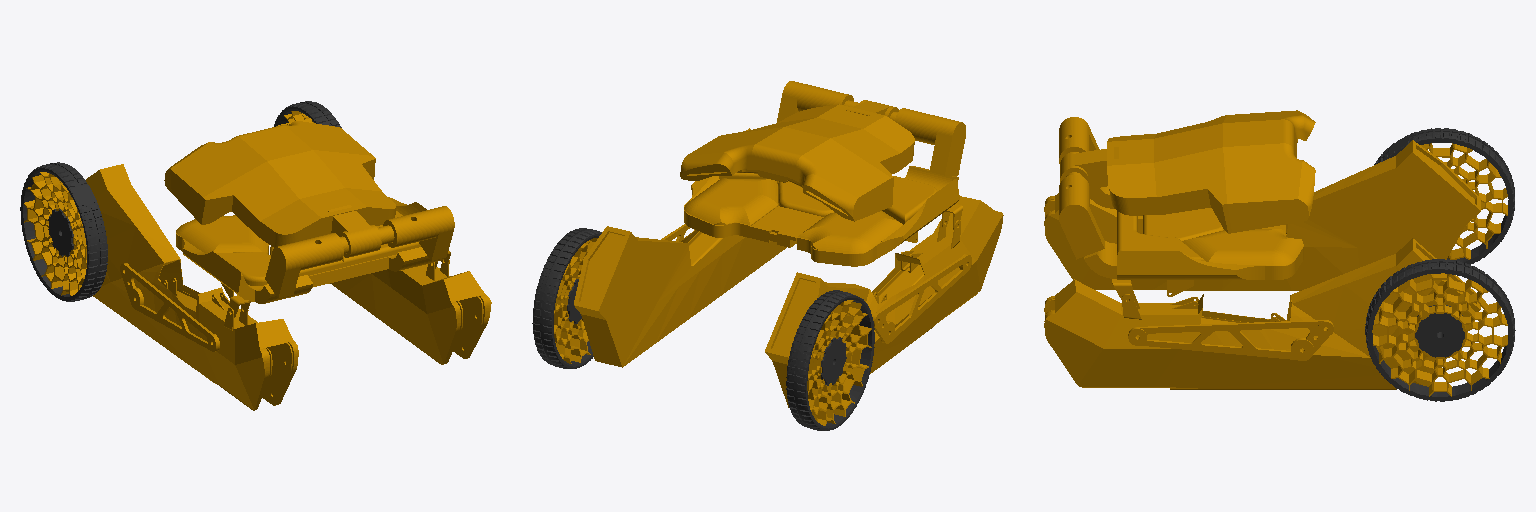
robot.urdf — nishcorp_wheelchair:
<?xml version="1.0" ?>
<!-- Generated using onshape-to-robot -->
<!-- Onshape document_id: 60254bbc48375c7f6772d56f -->
<robot name="nishcorp_wheelchair">
  <!-- Link fiberglass_seat_v3_v9 -->
  <link name="fiberglass_seat_v3_v9">
    <inertial>
      <origin xyz="0 0 0" rpy="0 0 0"/>
      <mass value="1e-09"/>
      <inertia ixx="1e-09" ixy="0" ixz="0" iyy="1e-09" iyz="0" izz="1e-09"/>
    </inertial>
    <!-- Part fiberglass_seat_v3_v9 -->
    <visual>
      <origin xyz="-0.00136916 -0.134916 0.0439822" rpy="1.23682e-16 1.54053e-17 1.00166e-15"/>
      <geometry>
        <mesh filename="package://wheelchair/wheelchair/assets/fiberglass_seat_v3_v9.stl"/>
      </geometry>
      <material name="fiberglass_seat_v3_v9_material">
        <color rgba="0.784314 0.556863 0.027451 1.0"/>
      </material>
    </visual>
    <collision>
      <origin xyz="-0.00136916 -0.134916 0.0439822" rpy="1.23682e-16 1.54053e-17 1.00166e-15"/>
      <geometry>
        <mesh filename="package://wheelchair/wheelchair/assets/fiberglass_seat_v3_v9.stl"/>
      </geometry>
    </collision>
    <!-- Part fiberglass_seat_v3_v9_2 -->
    <visual>
      <origin xyz="8.13252e-17 -0.133159 0.03" rpy="1.17961e-16 1.54053e-17 1.49241e-17"/>
      <geometry>
        <mesh filename="package://wheelchair/wheelchair/assets/fiberglass_seat_v3_v9__2.stl"/>
      </geometry>
      <material name="fiberglass_seat_v3_v9_2_material">
        <color rgba="0.784314 0.556863 0.027451 1.0"/>
      </material>
    </visual>
    <collision>
      <origin xyz="8.13252e-17 -0.133159 0.03" rpy="1.17961e-16 1.54053e-17 1.49241e-17"/>
      <geometry>
        <mesh filename="package://wheelchair/wheelchair/assets/fiberglass_seat_v3_v9__2.stl"/>
      </geometry>
    </collision>
  </link>
  <!-- Link shaft_v2 -->
  <link name="shaft_v2">
    <inertial>
      <origin xyz="0 0 0" rpy="0 0 0"/>
      <mass value="1e-09"/>
      <inertia ixx="1e-09" ixy="0" ixz="0" iyy="1e-09" iyz="0" izz="1e-09"/>
    </inertial>
    <!-- Part shaft_v2 -->
    <visual>
      <origin xyz="0.0244498 0.0708618 -0.3" rpy="1.5708 -1.79463e-31 -3.9443e-31"/>
      <geometry>
        <mesh filename="package://wheelchair/wheelchair/assets/shaft_v2.stl"/>
      </geometry>
      <material name="shaft_v2_material">
        <color rgba="0.784314 0.556863 0.027451 1.0"/>
      </material>
    </visual>
    <collision>
      <origin xyz="0.0244498 0.0708618 -0.3" rpy="1.5708 -1.79463e-31 -3.9443e-31"/>
      <geometry>
        <mesh filename="package://wheelchair/wheelchair/assets/shaft_v2.stl"/>
      </geometry>
    </collision>
  </link>
  <!-- Joint from fiberglass_seat_v3_v9 to shaft_v2 -->
  <joint name="j1" type="revolute">
    <origin xyz="-0.161102 -0.225441 0.147797" rpy="-1.5708 2.66454e-15 1.5708"/>
    <parent link="fiberglass_seat_v3_v9"/>
    <child link="shaft_v2"/>
    <axis xyz="0 0 1"/>
    <limit effort="10" velocity="10" lower="-3.14159" upper="0"/>
  </joint>
  <!-- Link component24_1 -->
  <link name="component24_1">
    <inertial>
      <origin xyz="0 0 0" rpy="0 0 0"/>
      <mass value="1e-09"/>
      <inertia ixx="1e-09" ixy="0" ixz="0" iyy="1e-09" iyz="0" izz="1e-09"/>
    </inertial>
    <!-- Part component24_1 -->
    <visual>
      <origin xyz="-0.0374601 0.183359 0.0656458" rpy="1.5708 1.5708 0"/>
      <geometry>
        <mesh filename="package://wheelchair/wheelchair/assets/component24_1.stl"/>
      </geometry>
      <material name="component24_1_material">
        <color rgba="0.784314 0.556863 0.027451 1.0"/>
      </material>
    </visual>
    <collision>
      <origin xyz="-0.0374601 0.183359 0.0656458" rpy="1.5708 1.5708 0"/>
      <geometry>
        <mesh filename="package://wheelchair/wheelchair/assets/component24_1.stl"/>
      </geometry>
    </collision>
  </link>
  <!-- Link untitled_v1 -->
  <link name="untitled_v1">
    <inertial>
      <origin xyz="0 0 0" rpy="0 0 0"/>
      <mass value="1e-09"/>
      <inertia ixx="1e-09" ixy="0" ixz="0" iyy="1e-09" iyz="0" izz="1e-09"/>
    </inertial>
    <!-- Part untitled_v1 -->
    <visual>
      <origin xyz="-5.55112e-17 -2.77556e-17 -0.005" rpy="1.5708 1.5708 0"/>
      <geometry>
        <mesh filename="package://wheelchair/wheelchair/assets/untitled_v1.stl"/>
      </geometry>
      <material name="untitled_v1_material">
        <color rgba="0.784314 0.556863 0.027451 1.0"/>
      </material>
    </visual>
    <collision>
      <origin xyz="-5.55112e-17 -2.77556e-17 -0.005" rpy="1.5708 1.5708 0"/>
      <geometry>
        <mesh filename="package://wheelchair/wheelchair/assets/untitled_v1.stl"/>
      </geometry>
    </collision>
  </link>
  <!-- Link zzzzzzz_v1 -->
  <link name="zzzzzzz_v1">
    <inertial>
      <origin xyz="0 0 0" rpy="0 0 0"/>
      <mass value="1e-09"/>
      <inertia ixx="1e-09" ixy="0" ixz="0" iyy="1e-09" iyz="0" izz="1e-09"/>
    </inertial>
    <!-- Part zzzzzzz_v1 -->
    <visual>
      <origin xyz="-0.197309 0.210554 0.419184" rpy="-1.5708 6.02782e-31 3.14159"/>
      <geometry>
        <mesh filename="package://wheelchair/wheelchair/assets/zzzzzzz_v1.stl"/>
      </geometry>
      <material name="zzzzzzz_v1_material">
        <color rgba="0.34902 0.34902 0.34902 1.0"/>
      </material>
    </visual>
    <collision>
      <origin xyz="-0.197309 0.210554 0.419184" rpy="-1.5708 6.02782e-31 3.14159"/>
      <geometry>
        <mesh filename="package://wheelchair/wheelchair/assets/zzzzzzz_v1.stl"/>
      </geometry>
    </collision>
  </link>
  <!-- Joint from untitled_v1 to zzzzzzz_v1 -->
  <joint name="j7" type="revolute">
    <origin xyz="-0.268116 0.224976 -0.01" rpy="-5.09833e-32 4.32183e-32 -1.01465e-17"/>
    <parent link="untitled_v1"/>
    <child link="zzzzzzz_v1"/>
    <axis xyz="0 0 1"/>
    <limit effort="10" velocity="10" lower="-3.141592653589793" upper="3.141592653589793"/>
  </joint>
  <!-- Joint from component24_1 to untitled_v1 -->
  <joint name="j4" type="revolute">
    <origin xyz="0.370405 0.106628 -0.0173542" rpy="1.35007e-15 5.19241e-16 0.785398"/>
    <parent link="component24_1"/>
    <child link="untitled_v1"/>
    <axis xyz="0 0 1"/>
    <limit effort="10" velocity="10" lower="-1.5708" upper="0"/>
  </joint>
  <!-- Link component1 -->
  <link name="component1">
    <inertial>
      <origin xyz="0 0 0" rpy="0 0 0"/>
      <mass value="1e-09"/>
      <inertia ixx="1e-09" ixy="0" ixz="0" iyy="1e-09" iyz="0" izz="1e-09"/>
    </inertial>
    <!-- Part component1 -->
    <visual>
      <origin xyz="2.77556e-17 -6.66134e-16 -0.01" rpy="-2.82743 -1.5708 0"/>
      <geometry>
        <mesh filename="package://wheelchair/wheelchair/assets/component1.stl"/>
      </geometry>
      <material name="component1_material">
        <color rgba="0.784314 0.556863 0.027451 1.0"/>
      </material>
    </visual>
    <collision>
      <origin xyz="2.77556e-17 -6.66134e-16 -0.01" rpy="-2.82743 -1.5708 0"/>
      <geometry>
        <mesh filename="package://wheelchair/wheelchair/assets/component1.stl"/>
      </geometry>
    </collision>
    <!-- Part tyre_v7 -->
    <visual>
      <origin xyz="0 0 -0.01" rpy="-1.5708 -1.5708 0"/>
      <geometry>
        <mesh filename="package://wheelchair/wheelchair/assets/tyre_v7.stl"/>
      </geometry>
      <material name="tyre_v7_material">
        <color rgba="0.247059 0.247059 0.247059 1.0"/>
      </material>
    </visual>
    <collision>
      <origin xyz="0 0 -0.01" rpy="-1.5708 -1.5708 0"/>
      <geometry>
        <mesh filename="package://wheelchair/wheelchair/assets/tyre_v7.stl"/>
      </geometry>
    </collision>
    <!-- Part component1_2 -->
    <visual>
      <origin xyz="-2.77556e-17 -4.44089e-16 -0.01" rpy="-2.82743 -1.5708 0"/>
      <geometry>
        <mesh filename="package://wheelchair/wheelchair/assets/component1__2.stl"/>
      </geometry>
      <material name="component1_2_material">
        <color rgba="0.247059 0.247059 0.247059 1.0"/>
      </material>
    </visual>
    <collision>
      <origin xyz="-2.77556e-17 -4.44089e-16 -0.01" rpy="-2.82743 -1.5708 0"/>
      <geometry>
        <mesh filename="package://wheelchair/wheelchair/assets/component1__2.stl"/>
      </geometry>
    </collision>
  </link>
  <!-- Joint from component24_1 to component1 -->
  <joint name="j9" type="revolute">
    <origin xyz="0.66254 0.053359 -0.0303542" rpy="6.18997e-17 -8.0744e-20 -1.5708"/>
    <parent link="component24_1"/>
    <child link="component1"/>
    <axis xyz="0 0 1"/>
    <limit effort="10" velocity="10" lower="-3.141592653589793" upper="3.141592653589793"/>
  </joint>
  <!-- Joint from fiberglass_seat_v3_v9 to component24_1 -->
  <joint name="j2" type="revolute">
    <origin xyz="0.278959 -0.113245 -0.0128467" rpy="-1.5708 -5.7471e-16 1.5708"/>
    <parent link="fiberglass_seat_v3_v9"/>
    <child link="component24_1"/>
    <axis xyz="0 0 1"/>
    <limit effort="10" velocity="10" lower="0" upper="1.5708"/>
  </joint>
  <!-- Link component24_1_2 -->
  <link name="component24_1_2">
    <inertial>
      <origin xyz="0 0 0" rpy="0 0 0"/>
      <mass value="1e-09"/>
      <inertia ixx="1e-09" ixy="0" ixz="0" iyy="1e-09" iyz="0" izz="1e-09"/>
    </inertial>
    <!-- Part component24_1_2 -->
    <visual>
      <origin xyz="-0.0374601 0.183359 0.431354" rpy="1.5708 1.5708 0"/>
      <geometry>
        <mesh filename="package://wheelchair/wheelchair/assets/component24_1__2.stl"/>
      </geometry>
      <material name="component24_1_2_material">
        <color rgba="0.784314 0.556863 0.027451 1.0"/>
      </material>
    </visual>
    <collision>
      <origin xyz="-0.0374601 0.183359 0.431354" rpy="1.5708 1.5708 0"/>
      <geometry>
        <mesh filename="package://wheelchair/wheelchair/assets/component24_1__2.stl"/>
      </geometry>
    </collision>
  </link>
  <!-- Link untitled_v1_2 -->
  <link name="untitled_v1_2">
    <inertial>
      <origin xyz="0 0 0" rpy="0 0 0"/>
      <mass value="1e-09"/>
      <inertia ixx="1e-09" ixy="0" ixz="0" iyy="1e-09" iyz="0" izz="1e-09"/>
    </inertial>
    <!-- Part untitled_v1_2 -->
    <visual>
      <origin xyz="5.55112e-17 -1.38778e-17 -0.005" rpy="-1.5708 -1.5708 0"/>
      <geometry>
        <mesh filename="package://wheelchair/wheelchair/assets/untitled_v1.stl"/>
      </geometry>
      <material name="untitled_v1_2_material">
        <color rgba="0.784314 0.556863 0.027451 1.0"/>
      </material>
    </visual>
    <collision>
      <origin xyz="5.55112e-17 -1.38778e-17 -0.005" rpy="-1.5708 -1.5708 0"/>
      <geometry>
        <mesh filename="package://wheelchair/wheelchair/assets/untitled_v1.stl"/>
      </geometry>
    </collision>
  </link>
  <!-- Link zzzzzzz_v1_2 -->
  <link name="zzzzzzz_v1_2">
    <inertial>
      <origin xyz="0 0 0" rpy="0 0 0"/>
      <mass value="1e-09"/>
      <inertia ixx="1e-09" ixy="0" ixz="0" iyy="1e-09" iyz="0" izz="1e-09"/>
    </inertial>
    <!-- Part zzzzzzz_v1_2 -->
    <visual>
      <origin xyz="0.197309 -0.210554 0.429184" rpy="-1.5708 5.24974e-32 1.01465e-17"/>
      <geometry>
        <mesh filename="package://wheelchair/wheelchair/assets/zzzzzzz_v1.stl"/>
      </geometry>
      <material name="zzzzzzz_v1_2_material">
        <color rgba="0.34902 0.34902 0.34902 1.0"/>
      </material>
    </visual>
    <collision>
      <origin xyz="0.197309 -0.210554 0.429184" rpy="-1.5708 5.24974e-32 1.01465e-17"/>
      <geometry>
        <mesh filename="package://wheelchair/wheelchair/assets/zzzzzzz_v1.stl"/>
      </geometry>
    </collision>
  </link>
  <!-- Joint from untitled_v1_2 to zzzzzzz_v1_2 -->
  <joint name="j6" type="revolute">
    <origin xyz="-0.268116 -0.224976 -0.02" rpy="7.92467e-30 -1.20439e-30 -3.14159"/>
    <parent link="untitled_v1_2"/>
    <child link="zzzzzzz_v1_2"/>
    <axis xyz="0 0 1"/>
    <limit effort="10" velocity="10" lower="-3.141592653589793" upper="3.141592653589793"/>
  </joint>
  <!-- Joint from component24_1_2 to untitled_v1_2 -->
  <joint name="j5" type="revolute">
    <origin xyz="0.370405 0.106628 0.0263542" rpy="3.14159 1.36174e-16 0.785398"/>
    <parent link="component24_1_2"/>
    <child link="untitled_v1_2"/>
    <axis xyz="0 0 1"/>
    <limit effort="10" velocity="10" lower="0" upper="1.5708"/>
  </joint>
  <!-- Link component1_2 -->
  <link name="component1_2">
    <inertial>
      <origin xyz="0 0 0" rpy="0 0 0"/>
      <mass value="1e-09"/>
      <inertia ixx="1e-09" ixy="0" ixz="0" iyy="1e-09" iyz="0" izz="1e-09"/>
    </inertial>
    <!-- Part component1_3 -->
    <visual>
      <origin xyz="5.55112e-17 -5.55112e-17 0.025" rpy="-2.82743 -1.5708 0"/>
      <geometry>
        <mesh filename="package://wheelchair/wheelchair/assets/component1__2.stl"/>
      </geometry>
      <material name="component1_3_material">
        <color rgba="0.247059 0.247059 0.247059 1.0"/>
      </material>
    </visual>
    <collision>
      <origin xyz="5.55112e-17 -5.55112e-17 0.025" rpy="-2.82743 -1.5708 0"/>
      <geometry>
        <mesh filename="package://wheelchair/wheelchair/assets/component1__2.stl"/>
      </geometry>
    </collision>
    <!-- Part component1_4 -->
    <visual>
      <origin xyz="1.66533e-16 -1.11022e-16 0.025" rpy="-2.82743 -1.5708 0"/>
      <geometry>
        <mesh filename="package://wheelchair/wheelchair/assets/component1.stl"/>
      </geometry>
      <material name="component1_4_material">
        <color rgba="0.784314 0.556863 0.027451 1.0"/>
      </material>
    </visual>
    <collision>
      <origin xyz="1.66533e-16 -1.11022e-16 0.025" rpy="-2.82743 -1.5708 0"/>
      <geometry>
        <mesh filename="package://wheelchair/wheelchair/assets/component1.stl"/>
      </geometry>
    </collision>
    <!-- Part tyre_v7_2 -->
    <visual>
      <origin xyz="5.55112e-17 -5.55112e-17 0.025" rpy="-1.5708 -1.5708 0"/>
      <geometry>
        <mesh filename="package://wheelchair/wheelchair/assets/tyre_v7.stl"/>
      </geometry>
      <material name="tyre_v7_2_material">
        <color rgba="0.247059 0.247059 0.247059 1.0"/>
      </material>
    </visual>
    <collision>
      <origin xyz="5.55112e-17 -5.55112e-17 0.025" rpy="-1.5708 -1.5708 0"/>
      <geometry>
        <mesh filename="package://wheelchair/wheelchair/assets/tyre_v7.stl"/>
      </geometry>
    </collision>
  </link>
  <!-- Joint from component24_1_2 to component1_2 -->
  <joint name="j8" type="revolute">
    <origin xyz="0.66254 0.053359 0.0273542" rpy="-5.65603e-18 9.09612e-17 0.652399"/>
    <parent link="component24_1_2"/>
    <child link="component1_2"/>
    <axis xyz="0 0 1"/>
    <limit effort="10" velocity="10" lower="-3.141592653589793" upper="3.141592653589793"/>
  </joint>
  <!-- Joint from fiberglass_seat_v3_v9 to component24_1_2 -->
  <joint name="j3" type="revolute">
    <origin xyz="-0.284197 -0.113245 -0.0128467" rpy="-1.5708 -1.11022e-16 1.5708"/>
    <parent link="fiberglass_seat_v3_v9"/>
    <child link="component24_1_2"/>
    <axis xyz="0 0 1"/>
    <limit effort="10" velocity="10" lower="0" upper="1.5708"/>
  </joint>
</robot>

--- What the picture shows (computed from the rendered views, not written in the file) ---
Views: 3 orthographic renders of the robot side by side, from view 1: azimuth 30°, elevation 25°; view 2: azimuth 150°, elevation 25°; view 3: azimuth 270°, elevation 25°.
Model nishcorp_wheelchair with 10 links and 9 joints (9 revolute), rooted at fiberglass_seat_v3_v9, posed every joint at zero.
Links seen in each view (by area): view 1: shaft_v2, component24_1_2, fiberglass_seat_v3_v9, component1_2, component24_1, untitled_v1_2, component1; view 2: fiberglass_seat_v3_v9, component24_1, shaft_v2, component24_1_2, component1_2, component1, untitled_v1_2; view 3: component24_1, shaft_v2, component24_1_2, fiberglass_seat_v3_v9, component1, component1_2, untitled_v1.
Link boxes in pixels (<box>): shaft_v2: <box>164,121,395,257</box>; component24_1_2: <box>86,164,298,410</box>; fiberglass_seat_v3_v9: <box>176,197,454,317</box>; component1_2: <box>20,162,107,301</box>; component24_1: <box>287,118,491,364</box>; untitled_v1_2: <box>120,263,219,351</box>; component1: <box>274,101,341,127</box>; fiberglass_seat_v3_v9: <box>684,81,965,266</box>; component24_1: <box>574,203,786,367</box>; shaft_v2: <box>680,100,914,221</box>; component24_1_2: <box>765,196,1003,407</box>; component1_2: <box>786,290,874,430</box>; component1: <box>532,228,601,368</box>; untitled_v1_2: <box>872,254,971,343</box>; component24_1: <box>1044,238,1480,389</box>; shaft_v2: <box>1060,110,1315,233</box>; component24_1_2: <box>1044,140,1480,290</box>; fiberglass_seat_v3_v9: <box>1059,117,1303,301</box>; component1: <box>1365,259,1515,401</box>; component1_2: <box>1374,128,1514,264</box>; untitled_v1: <box>1128,320,1333,360</box>.
Size in the robot's own frame: 0.7059 by 0.9972 by 0.4741 metres.
Meshes: 10 distinct files referenced, 13 mesh visuals loaded (9 binary STL); not drawn: 2 (reference not matched to a file when rendering).